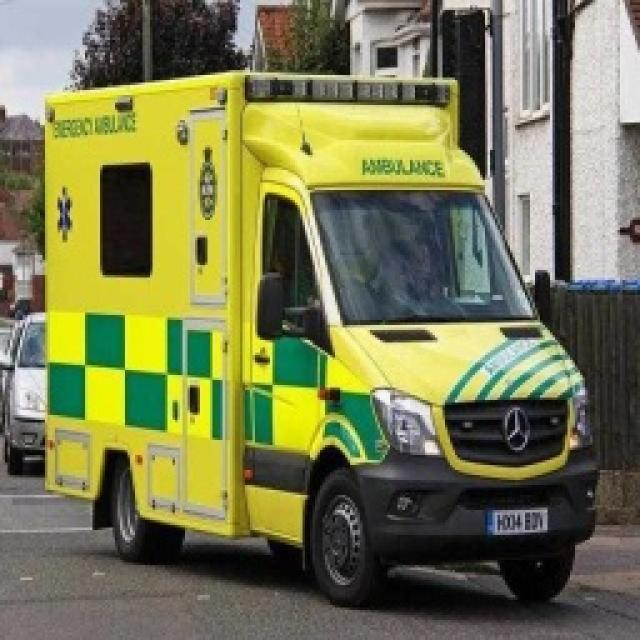emergency-vehicle: (31, 57, 608, 612)
